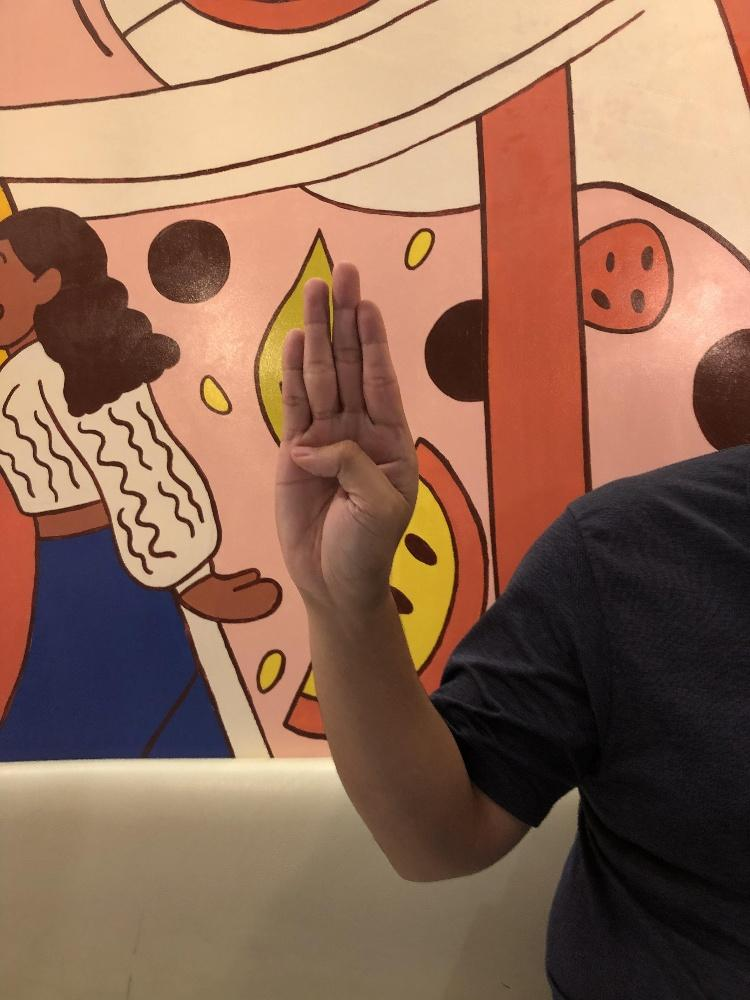b: (273, 259, 419, 608)
